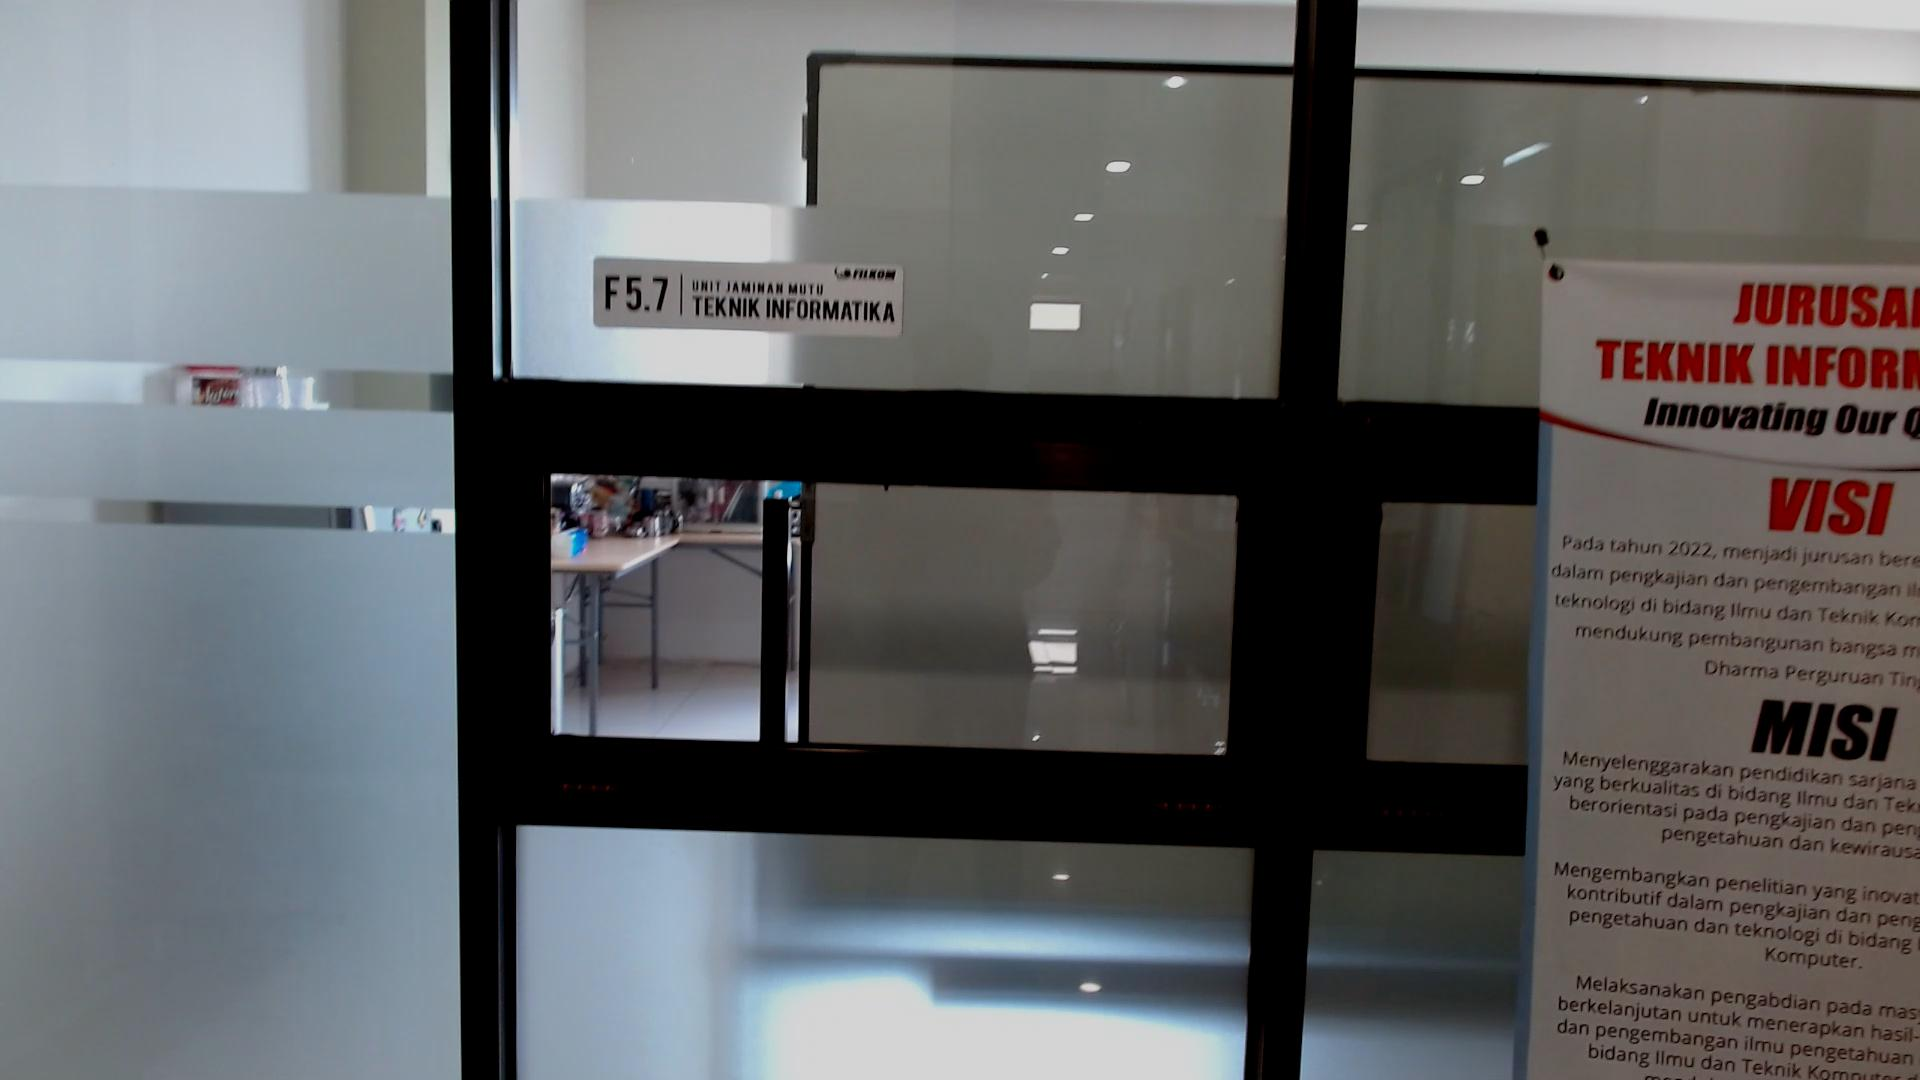plate: (593, 257, 905, 336)
